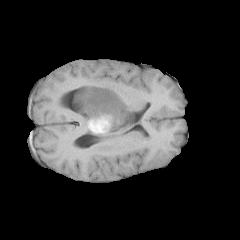glioma: (72, 82, 142, 136)
